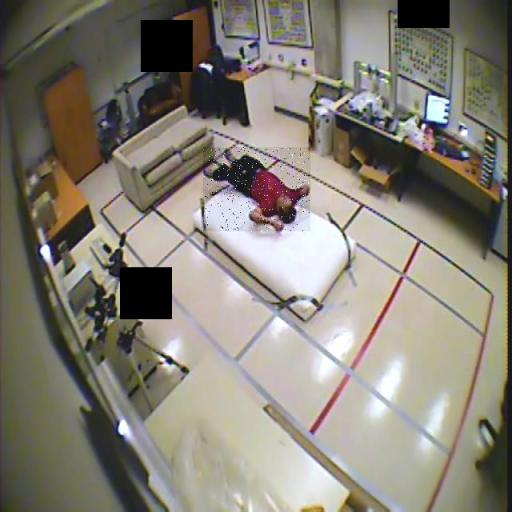Fall: (204, 147, 311, 231)
